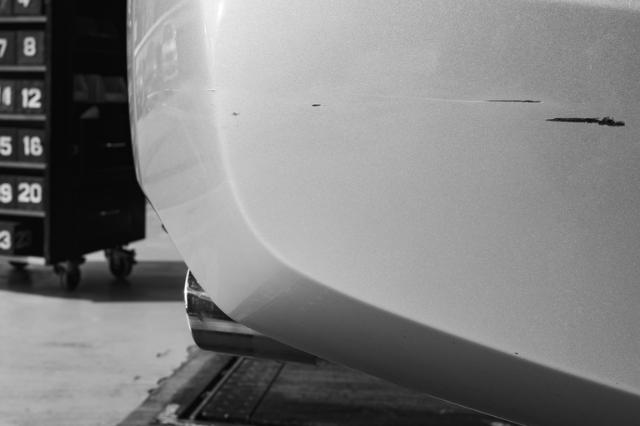Bumper: (428, 60, 640, 165)
